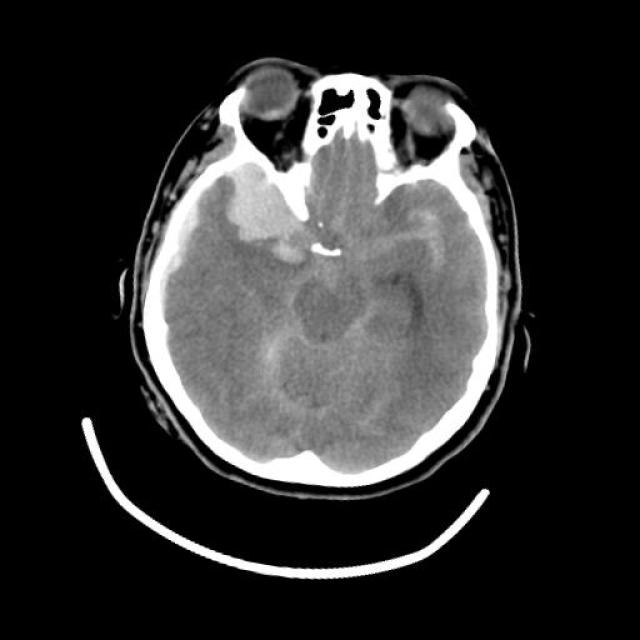Subarachnoid: (252, 253, 386, 433), (328, 179, 464, 283)
Subdural: (209, 154, 319, 254), (143, 192, 208, 316)
